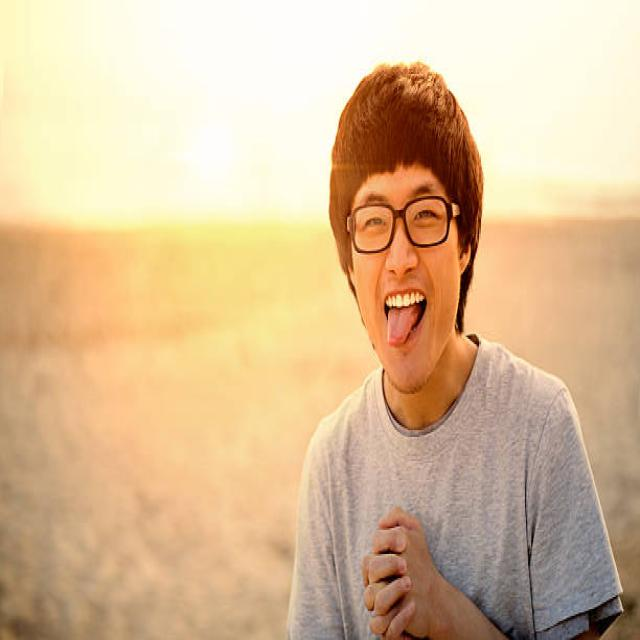tongue: (384, 305, 421, 343)
